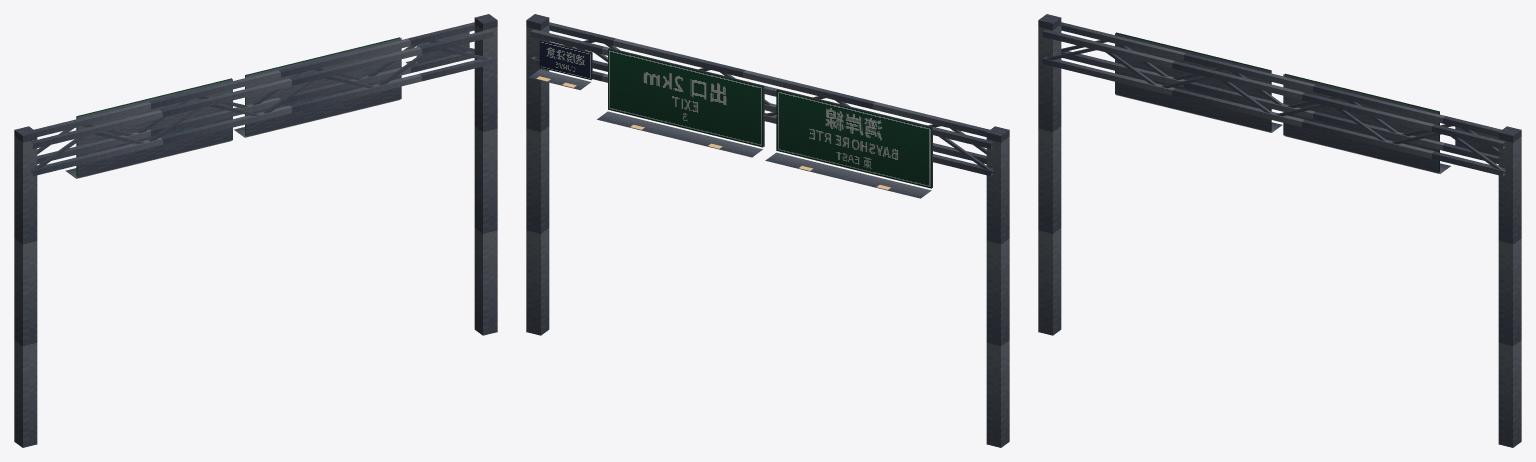
Rendered from wangan_gantry.glb.
3 renders of one model, left to right at view 1: azimuth 30°, elevation 25°; view 2: azimuth 150°, elevation 25°; view 3: azimuth 330°, elevation 25°, orthographic.
Visible parts, largest first — view 1: wangan_gantry; view 2: wangan_gantry; view 3: wangan_gantry.
Part boxes in pixels (x1,y1,x2,y2): wangan_gantry: [14, 14, 497, 447]; wangan_gantry: [526, 14, 1009, 447]; wangan_gantry: [1038, 14, 1521, 447].
Size of the model in its own units: 14.65 by 9.2 by 1.4.
5 materials, 5 textured.
